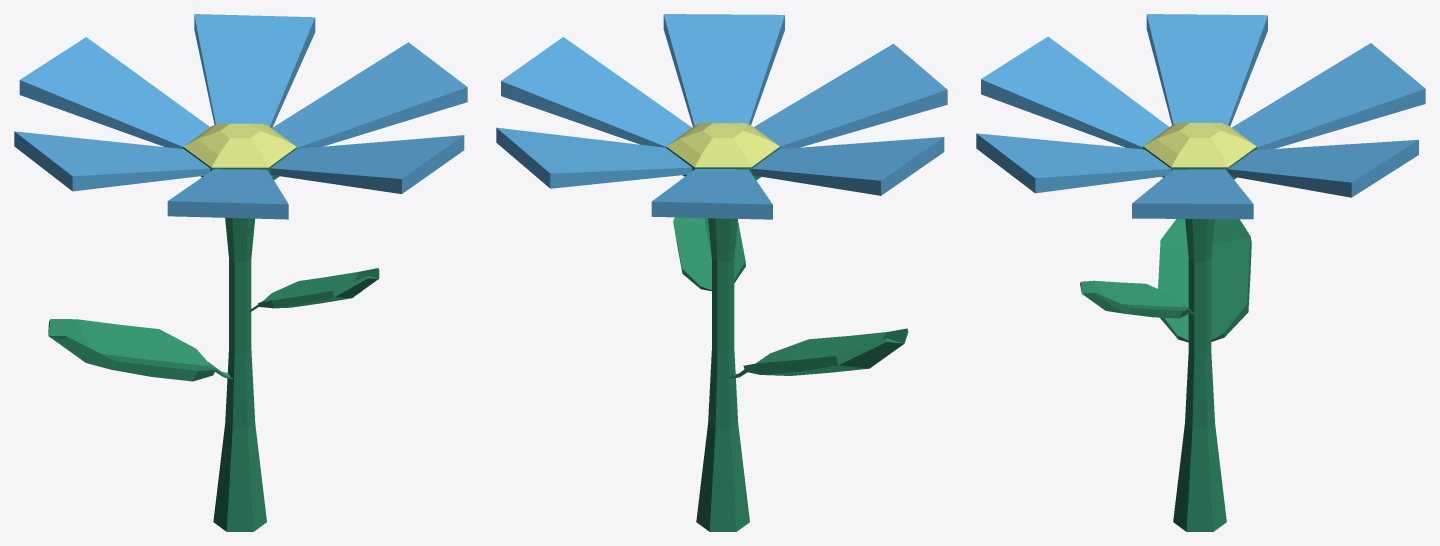
File: flower3.fbx
The picture shows the model from 3 angles, left to right: view 1: azimuth 30°, elevation 25°; view 2: azimuth 150°, elevation 25°; view 3: azimuth 270°, elevation 25°; orthographic projection.
Visible parts, largest first — view 1: Cube, Circle; view 2: Cube, Circle; view 3: Cube, Circle.
Boxes of the visible parts, x1,y1,x2,y2 form: Cube: (14, 14, 467, 219); Circle: (48, 123, 379, 531); Cube: (496, 14, 947, 219); Circle: (666, 123, 908, 531); Cube: (976, 14, 1425, 219); Circle: (1080, 123, 1256, 531).
Size of the model in its own units: 991 by 1004 by 990.
